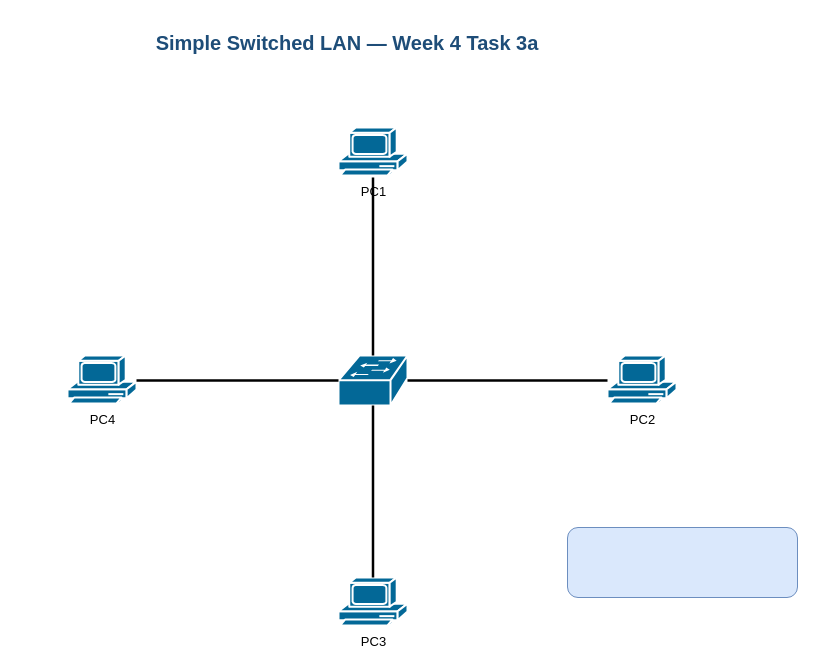
Some shapes in this 815 by 667 pixel diagram are drawn without their labels. The centre of each missing label's shape, as x and y in pixels:
Legend SW1 = Layer-2 Workgroup Switch PC1–PC4 = End-host Workstations: (x=682, y=562)
SW1: (x=372, y=380)
